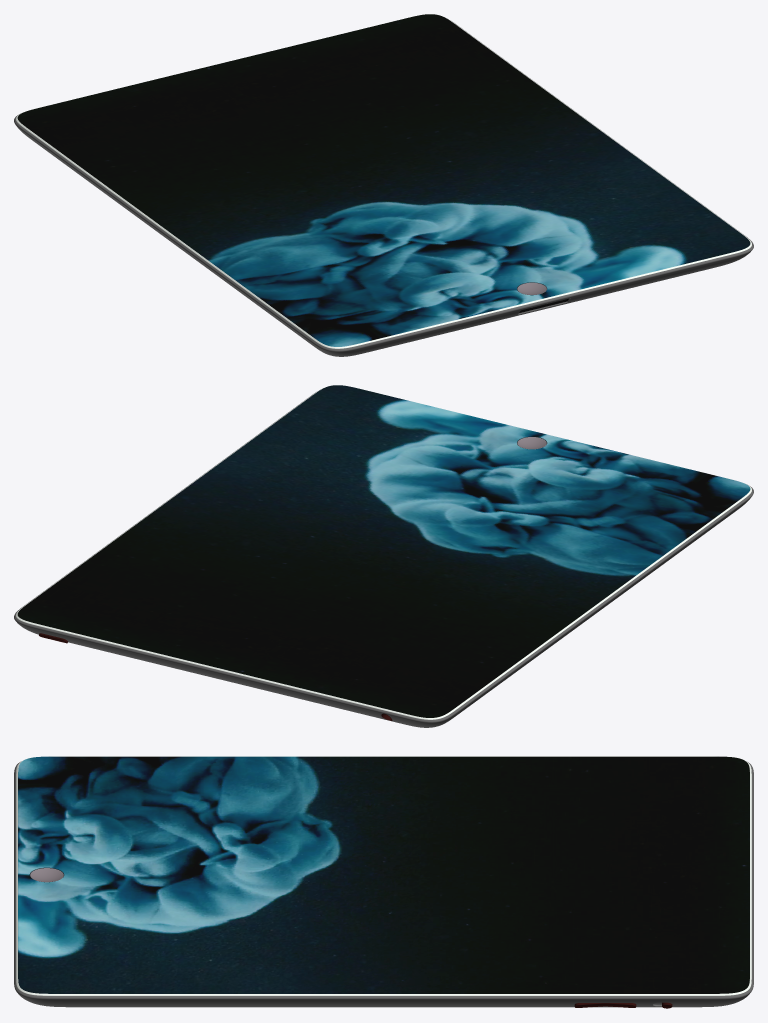
File: tablet1.glb
3 views of the same model, one above another, from view 1: azimuth 30°, elevation 25°; view 2: azimuth 150°, elevation 25°; view 3: azimuth 270°, elevation 25° (orthographic). The views are drawn at different scales.
Visible parts, largest first — view 1: uploads_files_629424_mpm_F20; view 2: uploads_files_629424_mpm_F20; view 3: uploads_files_629424_mpm_F20.
Part boxes in pixels (left/top/right/bottom): uploads_files_629424_mpm_F20: left=14, top=14, right=753, bottom=356; uploads_files_629424_mpm_F20: left=14, top=385, right=753, bottom=727; uploads_files_629424_mpm_F20: left=14, top=756, right=753, bottom=1008.
Size of the model in its own units: 1.7 by 0.0803 by 2.2.
10 materials, 1 textured.
